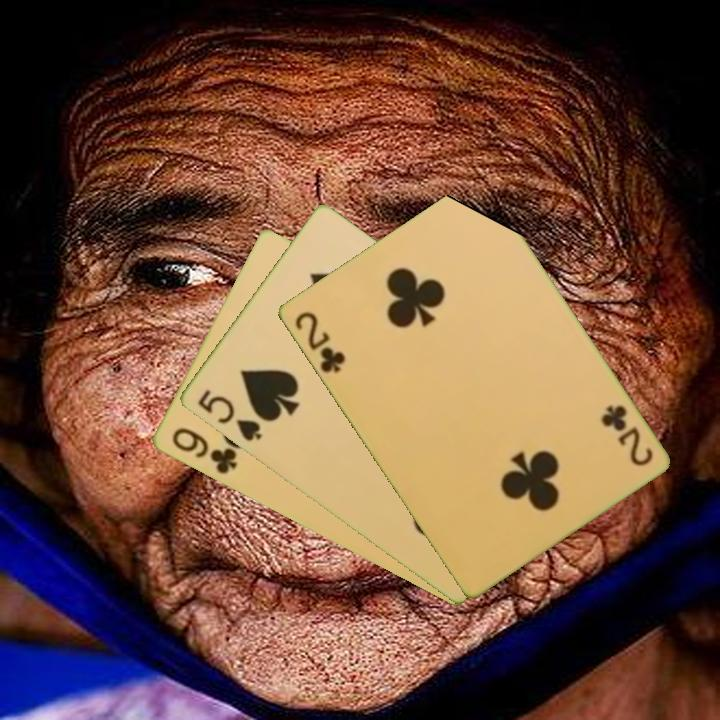2c: (597, 401, 656, 470), (290, 308, 348, 376)
5s: (193, 386, 265, 445)
9c: (167, 424, 240, 477)
